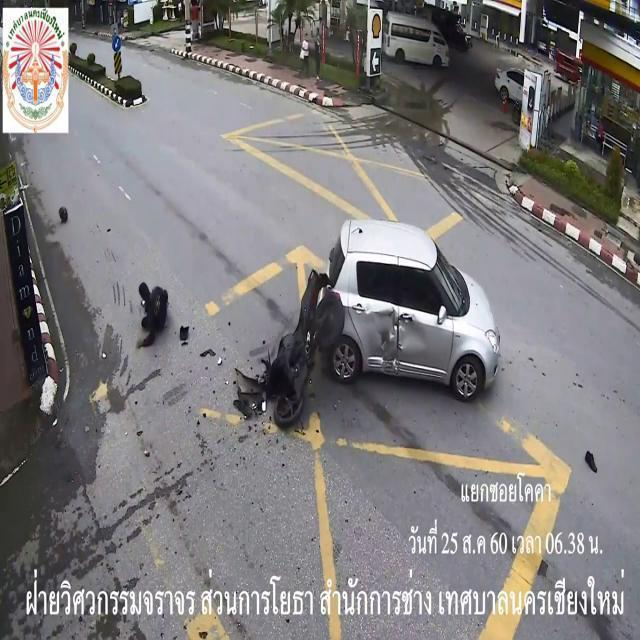accident: (135, 216, 508, 434)
non-accident: (382, 5, 548, 114)
